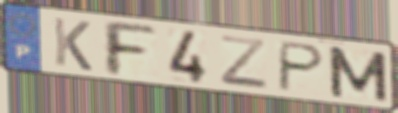4: (165, 28, 210, 86)
F: (99, 18, 160, 79)
K: (51, 15, 94, 73)
M: (325, 44, 391, 104)
P: (275, 39, 328, 94)
Z: (217, 33, 271, 92)
